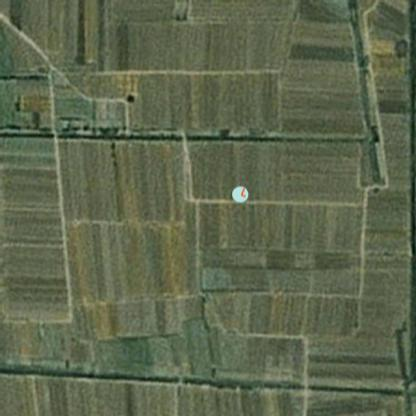L: (240, 186, 248, 199)
circle: (232, 184, 250, 204)
